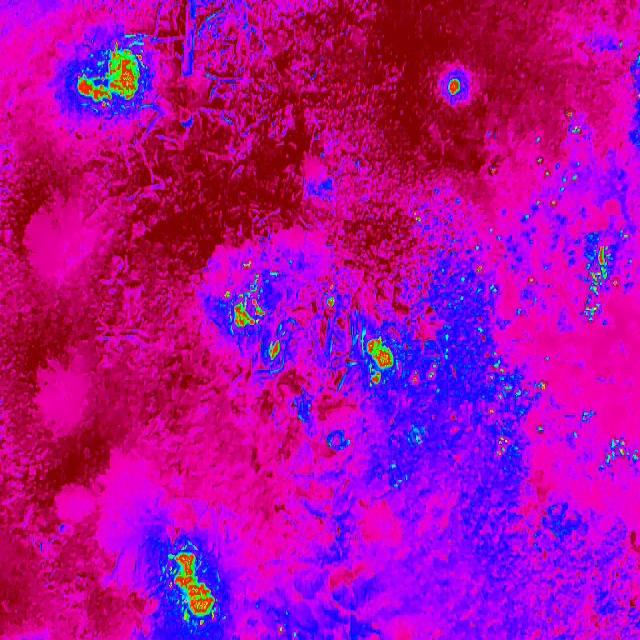fire: (67, 42, 150, 117), (161, 541, 220, 633), (574, 243, 622, 325), (218, 257, 268, 335), (359, 333, 399, 388), (598, 430, 640, 470), (326, 427, 354, 457), (442, 70, 464, 100), (262, 337, 284, 362), (494, 432, 510, 460), (322, 286, 339, 312), (411, 212, 424, 224), (536, 379, 548, 391), (476, 264, 486, 276), (564, 110, 575, 120)
